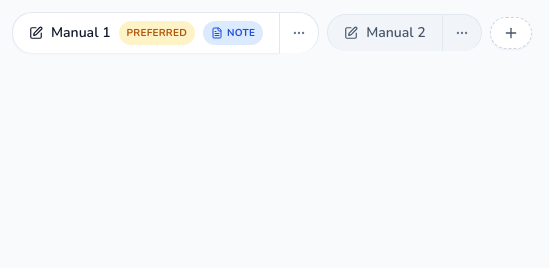
Test: TeamIterationTabs › uses scenario language for team version actions
Press the mouse on the button named "More actions for Manual 1" at coordinates (300, 32), box [280, 12, 319, 53]
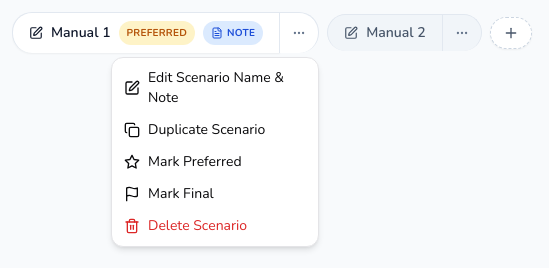
Expected: the menu item "Duplicate Scenario" is shown, [124, 120, 265, 139]
Expected: the menu item "Delete Scenario" is shown, [124, 216, 247, 235]
